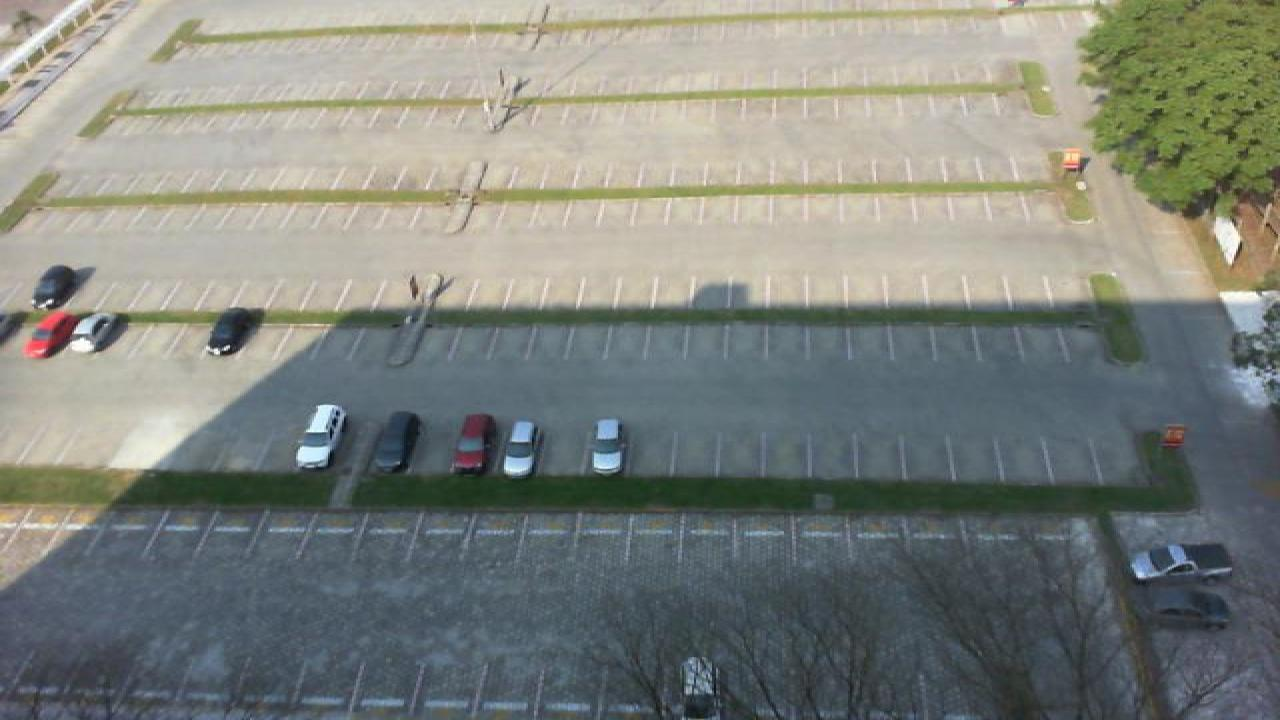Car: (1130, 542, 1234, 583), (292, 403, 348, 471), (1148, 588, 1230, 629), (372, 411, 422, 474), (204, 308, 262, 358), (450, 413, 494, 475), (24, 310, 76, 360), (588, 417, 630, 476), (680, 656, 718, 720), (500, 420, 542, 477), (68, 312, 126, 353), (30, 264, 78, 312)
